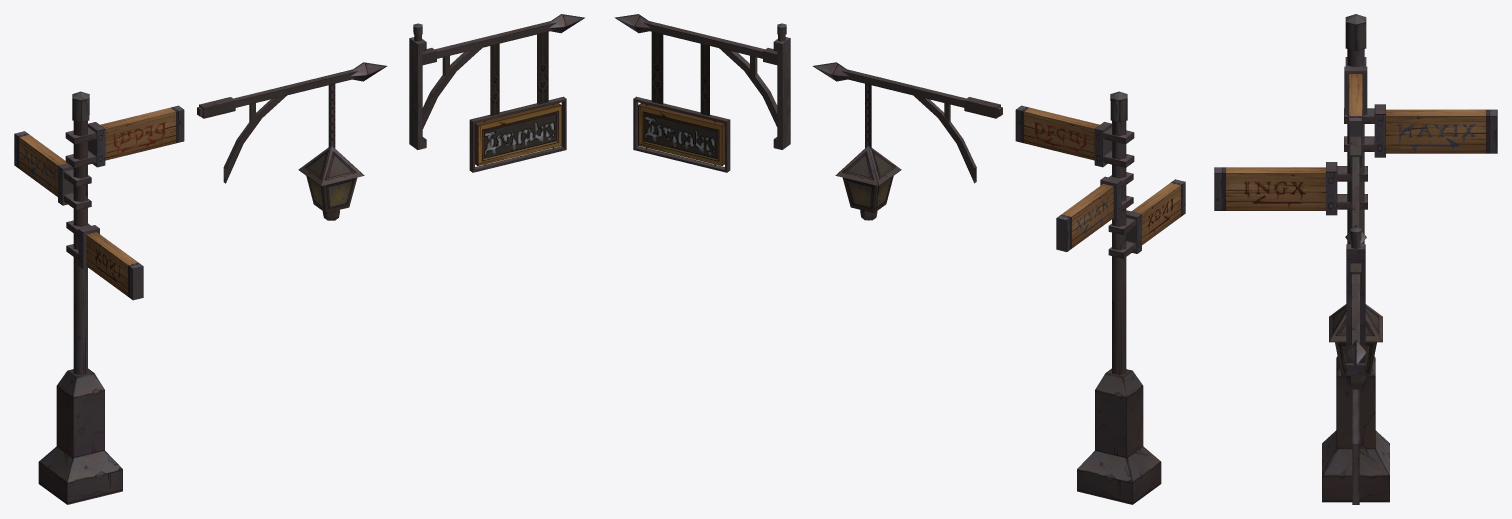
Rendered from 2_ChengZhen_Deng_01.FBX.
The picture shows the model from 3 angles, left to right: view 1: azimuth 30°, elevation 25°; view 2: azimuth 150°, elevation 25°; view 3: azimuth 270°, elevation 25°; orthographic projection. The views are drawn at different scales.
Visible parts, largest first — view 1: 2_ChengZhen_Deng_01_01, 2_ChengZhen_Deng_01_05, 2_ChengZhen_Deng_01_03, 2_ChengZhen_Deng_01_06, 2_ChengZhen_Deng_01_04, 2_ChengZhen_Deng_01_02, 2_ChengZhen_Deng_01_08, 2_ChengZhen_Deng_01_07; view 2: 2_ChengZhen_Deng_01_01, 2_ChengZhen_Deng_01_05, 2_ChengZhen_Deng_01_03, 2_ChengZhen_Deng_01_06, 2_ChengZhen_Deng_01_02, 2_ChengZhen_Deng_01_04, 2_ChengZhen_Deng_01_07, 2_ChengZhen_Deng_01_08; view 3: 2_ChengZhen_Deng_01_01, 2_ChengZhen_Deng_01_08, 2_ChengZhen_Deng_01_07, 2_ChengZhen_Deng_01_03, 2_ChengZhen_Deng_01_04, 2_ChengZhen_Deng_01_06, 2_ChengZhen_Deng_01_02, 2_ChengZhen_Deng_01_05.
Boxes of the visible parts, <box> form: 2_ChengZhen_Deng_01_01: <box>38,91,122,504</box>; 2_ChengZhen_Deng_01_05: <box>469,31,566,172</box>; 2_ChengZhen_Deng_01_03: <box>409,14,584,149</box>; 2_ChengZhen_Deng_01_06: <box>65,105,184,167</box>; 2_ChengZhen_Deng_01_04: <box>298,84,364,220</box>; 2_ChengZhen_Deng_01_02: <box>197,62,387,183</box>; 2_ChengZhen_Deng_01_08: <box>66,220,143,300</box>; 2_ChengZhen_Deng_01_07: <box>14,131,91,210</box>; 2_ChengZhen_Deng_01_01: <box>1077,91,1161,504</box>; 2_ChengZhen_Deng_01_05: <box>633,32,730,172</box>; 2_ChengZhen_Deng_01_03: <box>614,14,790,149</box>; 2_ChengZhen_Deng_01_06: <box>1015,105,1134,167</box>; 2_ChengZhen_Deng_01_02: <box>812,62,1002,183</box>; 2_ChengZhen_Deng_01_04: <box>835,83,901,220</box>; 2_ChengZhen_Deng_01_07: <box>1056,172,1133,251</box>; 2_ChengZhen_Deng_01_08: <box>1108,179,1185,258</box>; 2_ChengZhen_Deng_01_01: <box>1322,14,1389,502</box>; 2_ChengZhen_Deng_01_08: <box>1214,162,1367,215</box>; 2_ChengZhen_Deng_01_07: <box>1344,104,1497,157</box>; 2_ChengZhen_Deng_01_03: <box>1345,227,1366,375</box>; 2_ChengZhen_Deng_01_04: <box>1329,304,1382,386</box>; 2_ChengZhen_Deng_01_06: <box>1344,57,1367,158</box>; 2_ChengZhen_Deng_01_02: <box>1345,136,1366,244</box>; 2_ChengZhen_Deng_01_05: <box>1352,389,1359,504</box>.
Bounding box in the file's own units: 1109 × 789 × 428.
Materials: 1 (1 with a texture image).
